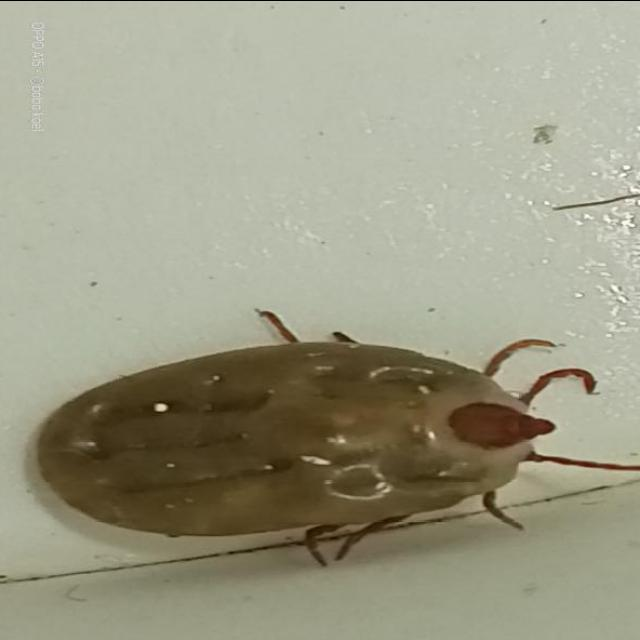Rhipicephalus Sanguineus-F-Fed: (24, 307, 640, 565)
